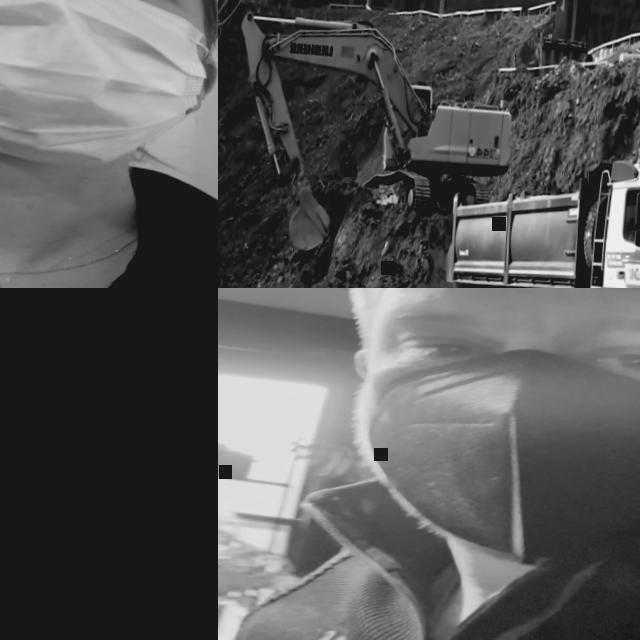machinery: (224, 3, 526, 271), (437, 148, 640, 288)
mask: (359, 334, 640, 576), (0, 0, 218, 175)
no_vest: (233, 521, 640, 640), (0, 146, 218, 288)
person: (219, 288, 640, 640), (0, 0, 218, 288), (631, 203, 640, 238)
